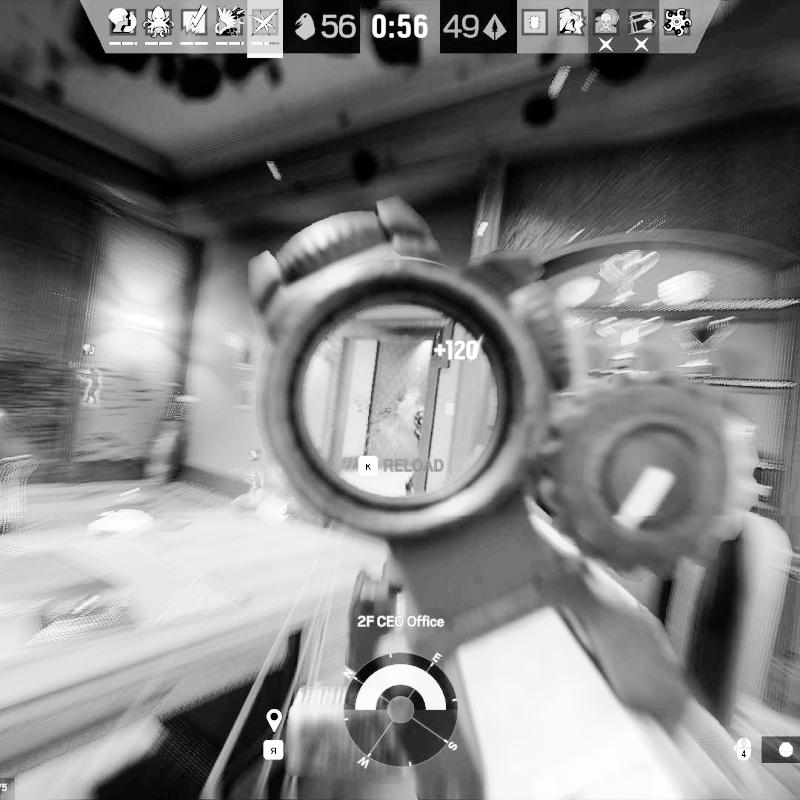Character: (403, 404, 426, 496)
Friend_label: (227, 446, 283, 475), (66, 342, 110, 369)
